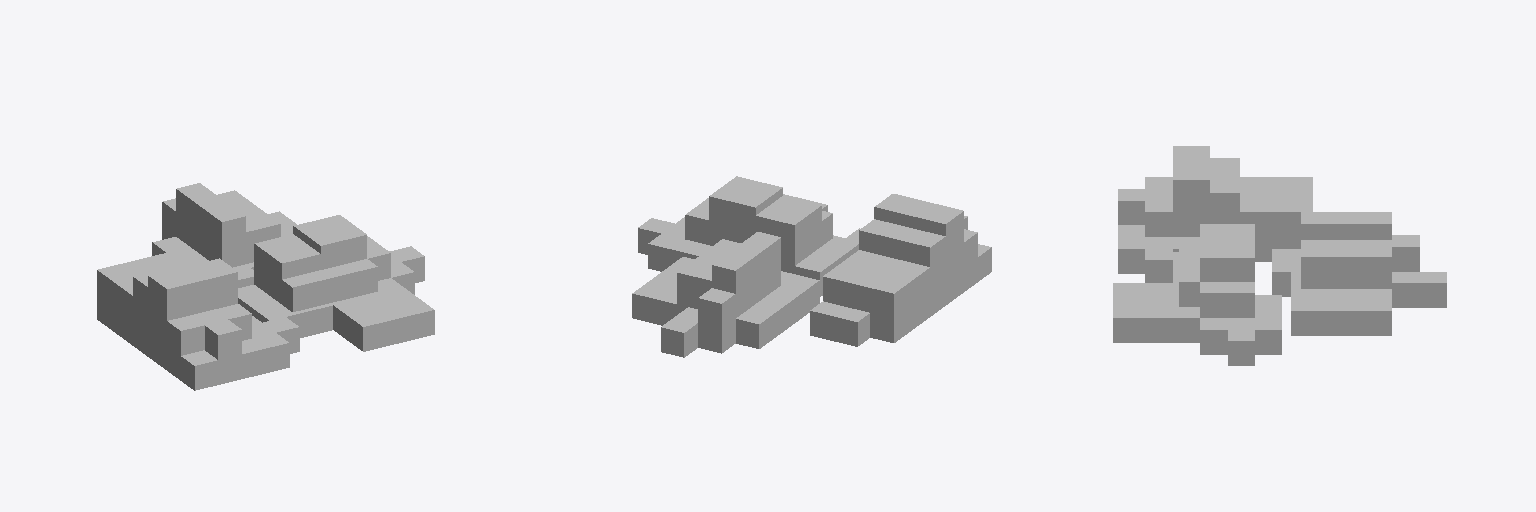
The model's file is rock_piles_medium_2.obj.
3 views of the same model, side by side, from view 1: azimuth 30°, elevation 25°; view 2: azimuth 150°, elevation 25°; view 3: azimuth 270°, elevation 25° (orthographic).
Parts seen in each view (by area): view 1: Sphere.004_Sphere.007; view 2: Sphere.004_Sphere.007; view 3: Sphere.004_Sphere.007.
Boxes of the visible parts, x1=… form: Sphere.004_Sphere.007: x1=97, y1=183, x2=434, y2=390; Sphere.004_Sphere.007: x1=632, y1=176, x2=991, y2=357; Sphere.004_Sphere.007: x1=1113, y1=146, x2=1446, y2=365.
Bounding box in the file's own units: 0.75 × 0.2046 × 0.7611.